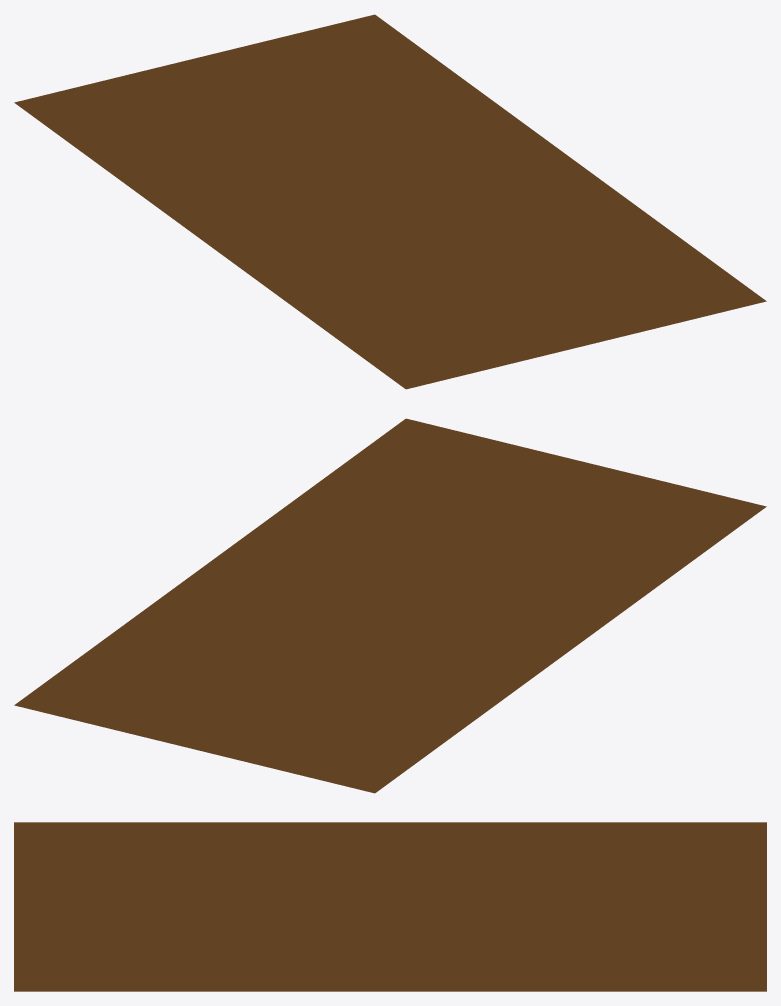
3 views of the same model, one above another, from view 1: azimuth 30°, elevation 25°; view 2: azimuth 150°, elevation 25°; view 3: azimuth 270°, elevation 25° (orthographic). The views are drawn at different scales.
Parts seen in each view (by area): view 1: Plane; view 2: Plane; view 3: Plane.
Part boxes in pixels (left/top/right/bottom): Plane: left=14, top=14, right=766, bottom=389; Plane: left=14, top=418, right=766, bottom=793; Plane: left=14, top=822, right=766, bottom=991.
Size of the model in its own units: 3.39 by 1.04e-06 by 6.37.
